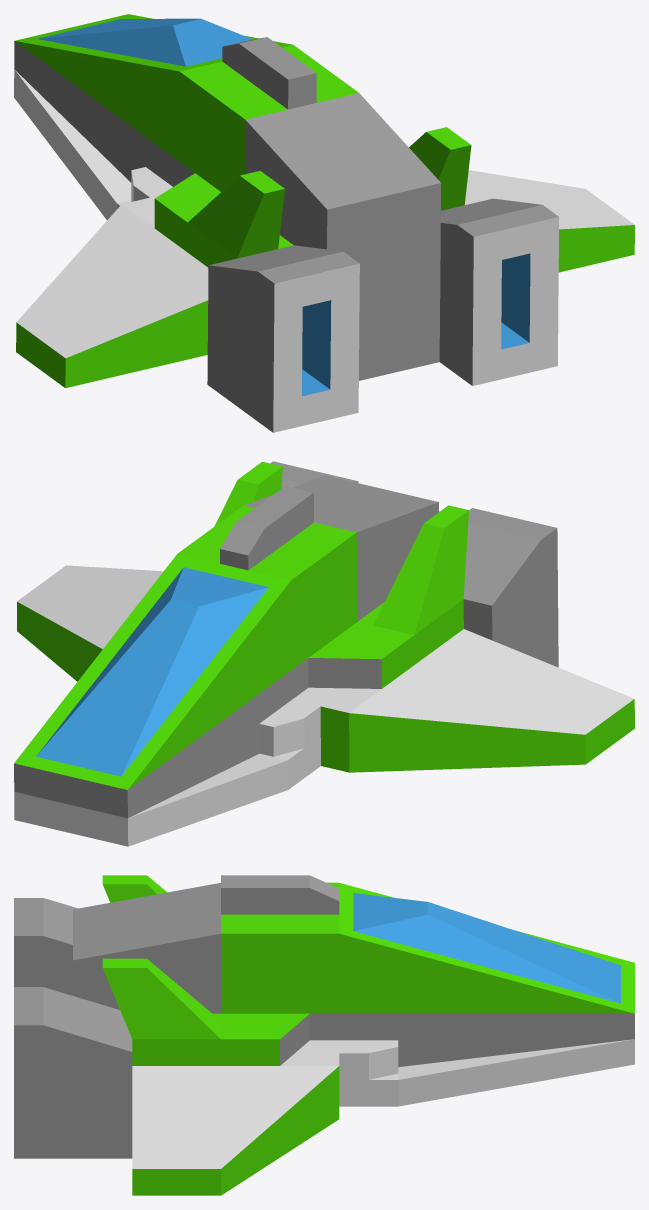
The model's file is nave4.glb.
3 renders of one model, top to bottom at view 1: azimuth 30°, elevation 25°; view 2: azimuth 150°, elevation 25°; view 3: azimuth 270°, elevation 25°, orthographic. The views are drawn at different scales.
Parts seen in each view (by area): view 1: craft_speederA; view 2: craft_speederA; view 3: craft_speederA.
Part boxes in pixels (x1=…): craft_speederA: x1=14, y1=14, x2=634, y2=432; craft_speederA: x1=14, y1=461, x2=634, y2=846; craft_speederA: x1=14, y1=875, x2=634, y2=1195.
Bounding box in the file's own units: 2 × 0.805 × 2.1.
